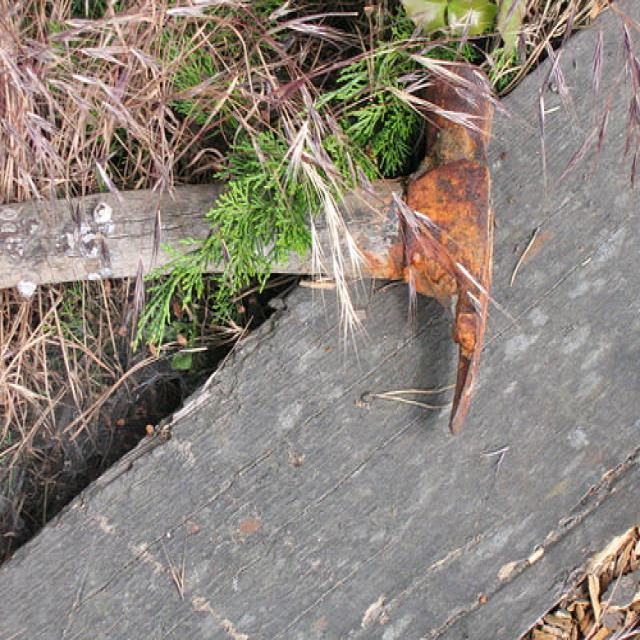hammer: (0, 49, 516, 442)
